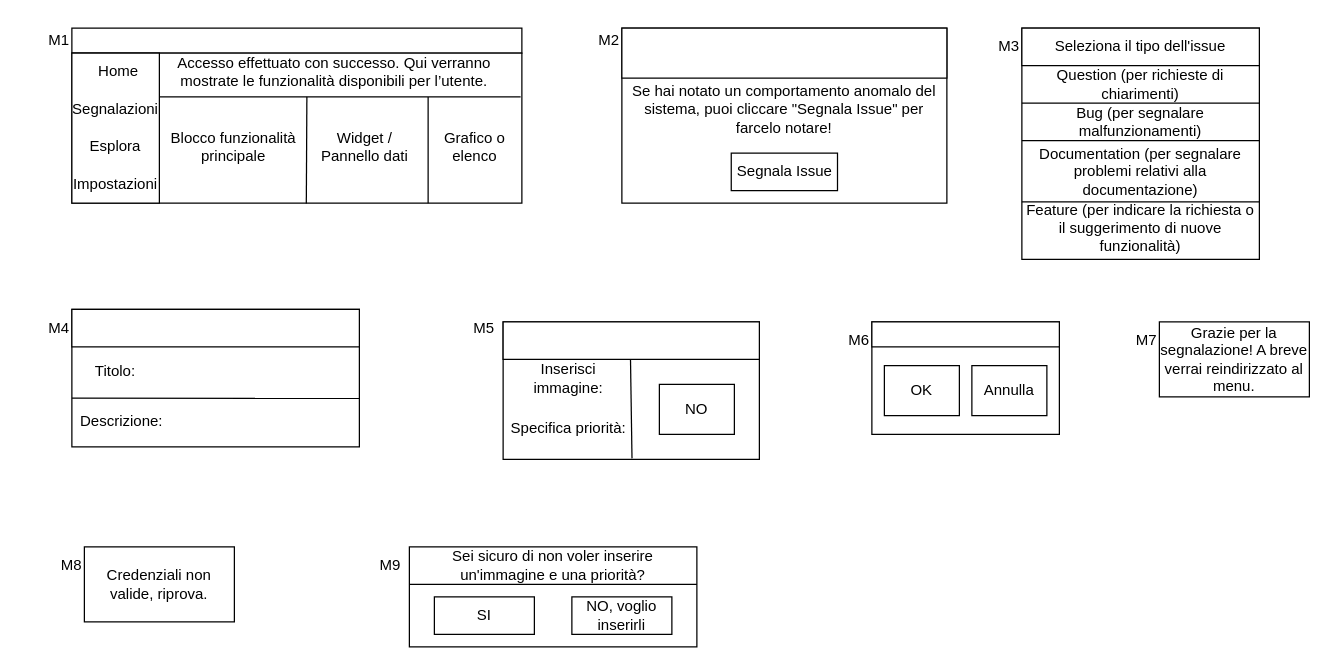
Image size: 1331x669. Some labels were removed from this diagram. The centre of each missing label's shape, as x and y in pixels:
"Dashboard Utente" belongs at (x=296, y=40).
"Inserisci titolo e descrizione dell'issue" belongs at (x=215, y=327).
"Sezione Segnalazioni" belongs at (x=784, y=52).
"Vuoi inserire anche un'immagine e specificare la priorità?" belongs at (x=630, y=340).
"Vuoi inviare l'issue?" belongs at (x=965, y=334).
